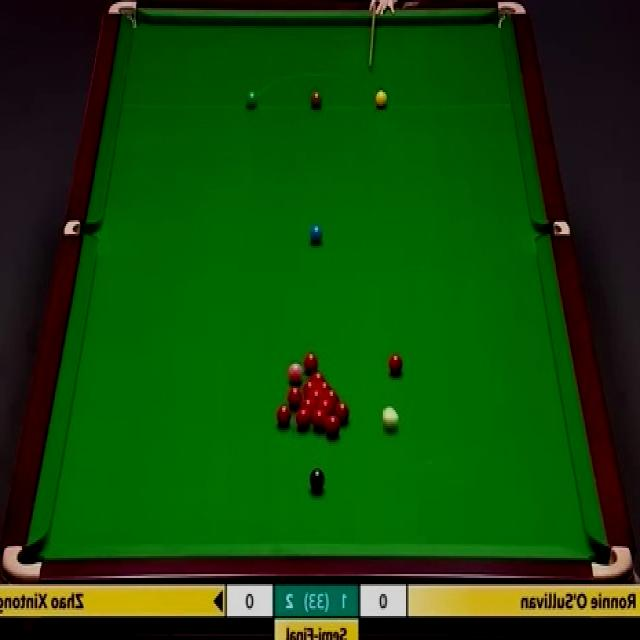black-ball: (309, 467, 325, 493)
blue-ball: (310, 224, 323, 242)
brown-ball: (310, 92, 323, 109)
green-ball: (244, 88, 258, 112)
pink-ball: (286, 362, 302, 384)
red-ball: (294, 404, 308, 433), (303, 352, 319, 374), (334, 402, 350, 424), (388, 353, 402, 378), (286, 385, 301, 408), (309, 405, 324, 426), (276, 404, 290, 426), (324, 416, 339, 436), (308, 389, 324, 404), (318, 399, 334, 414), (311, 371, 326, 385), (303, 378, 316, 394), (325, 388, 339, 402), (317, 379, 330, 394), (301, 399, 315, 411)
white-ball: (383, 406, 401, 432)
yellow-ball: (374, 89, 388, 110)
